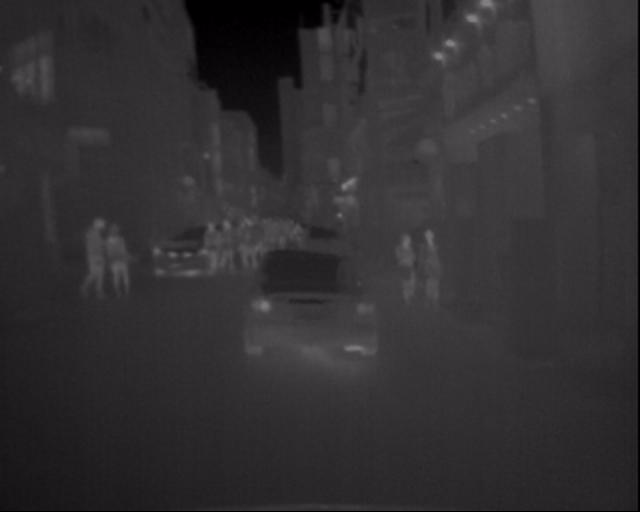person: (75, 226, 104, 303), (103, 231, 129, 299), (416, 229, 441, 299), (397, 233, 421, 303), (206, 222, 226, 283), (272, 217, 306, 252), (227, 219, 247, 276)
